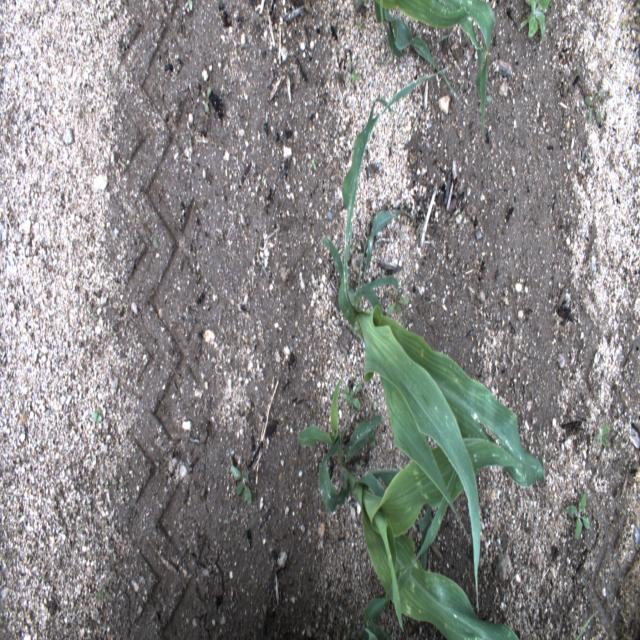crop: (322, 64, 544, 610), (298, 378, 521, 639), (372, 0, 495, 139), (361, 470, 456, 638), (574, 610, 598, 639)
weed: (520, 0, 551, 47), (565, 490, 591, 541), (584, 87, 603, 130), (232, 468, 251, 507), (340, 383, 362, 415), (345, 54, 361, 90), (595, 422, 610, 447), (355, 8, 367, 33), (94, 587, 110, 603), (203, 84, 211, 113), (91, 405, 102, 425), (86, 303, 96, 323), (620, 16, 626, 32), (311, 157, 317, 172), (244, 583, 251, 593), (187, 0, 194, 10), (622, 280, 629, 289)
